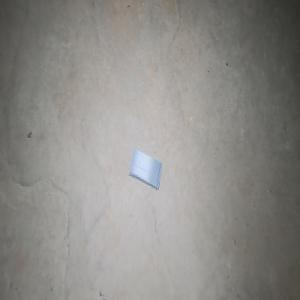PlasticPart: (128, 148, 162, 190)
